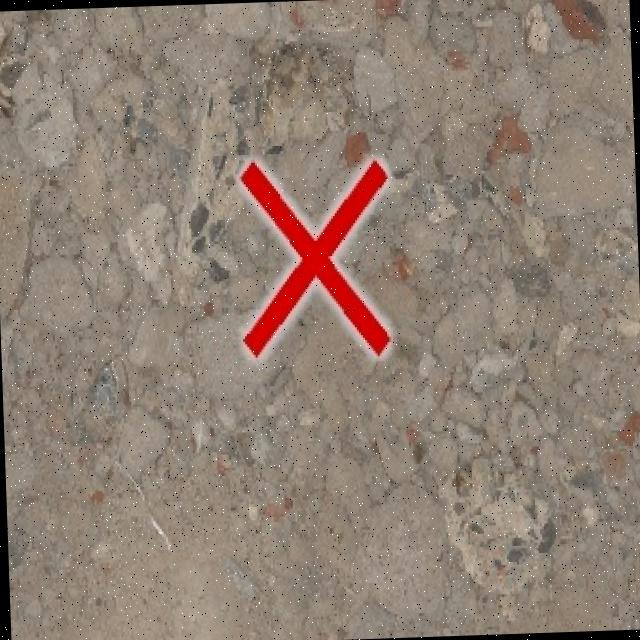x_marker: (238, 156, 392, 359)
